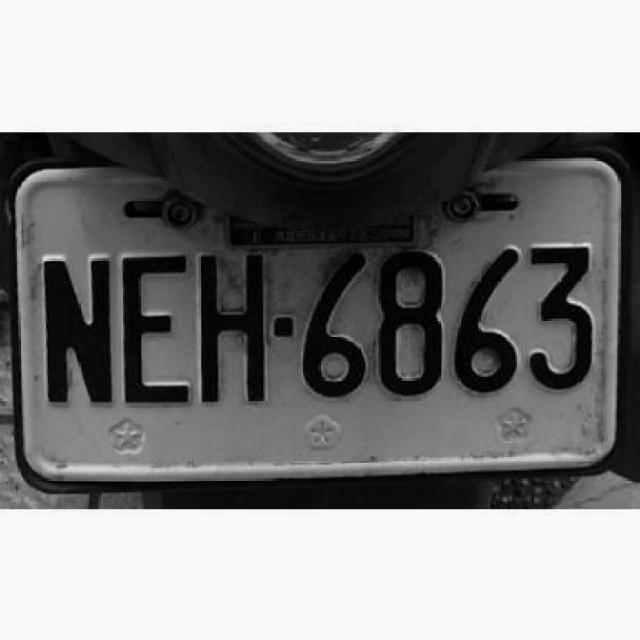-: (272, 314, 296, 340)
3: (524, 230, 596, 396)
6: (448, 238, 522, 396), (297, 245, 371, 400)
8: (372, 237, 446, 400)
E: (114, 245, 192, 409)
H: (194, 245, 268, 408)
N: (38, 245, 116, 409)
